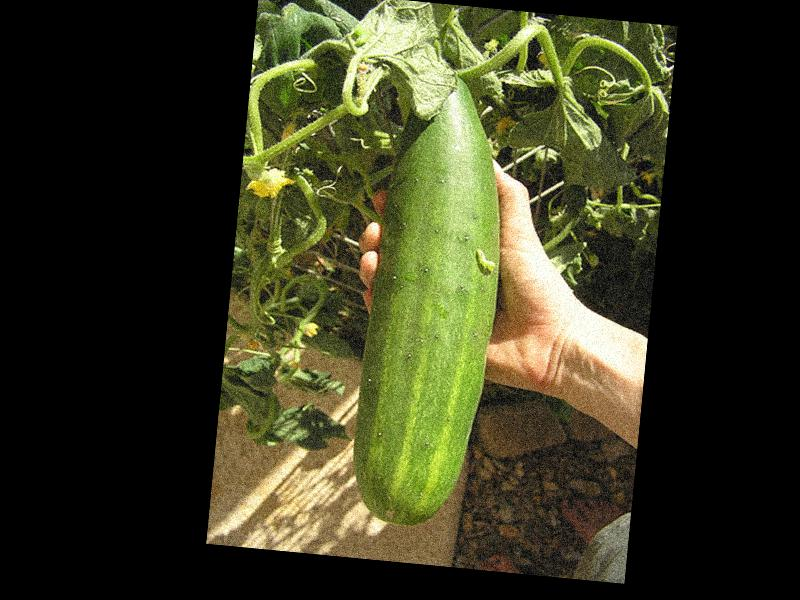Cucumber: (345, 64, 517, 532)
